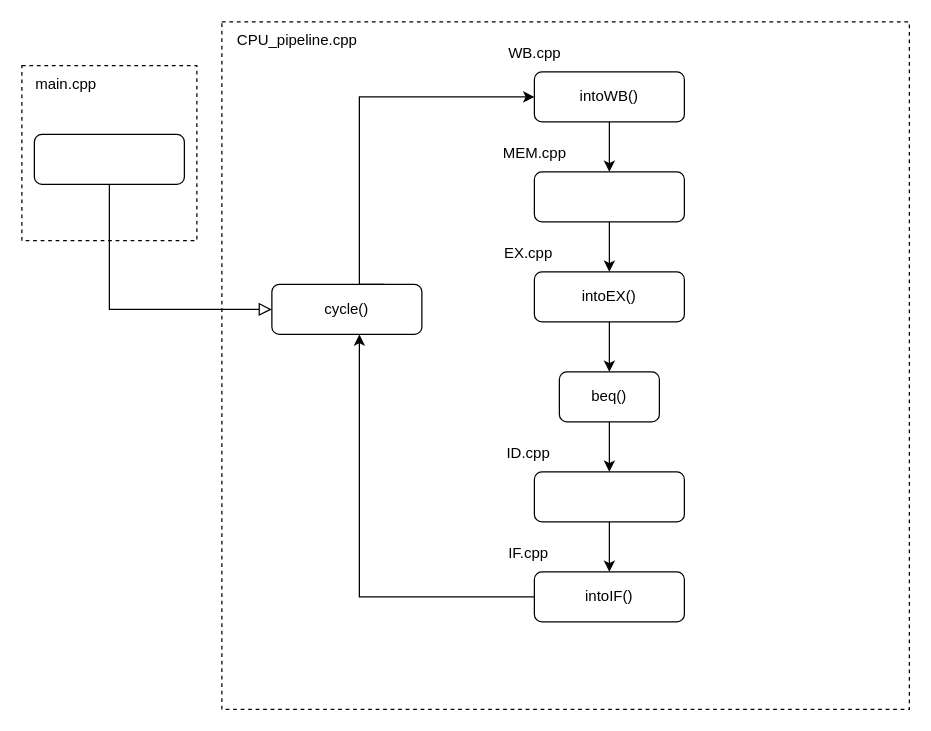
Image size: 931x731. Some labels were removed from this diagram. Each missing label, with the box of its shape:
intoID(): (533, 471, 684, 522)
intoMEM(): (533, 171, 684, 222)
main(): (33, 133, 184, 184)
